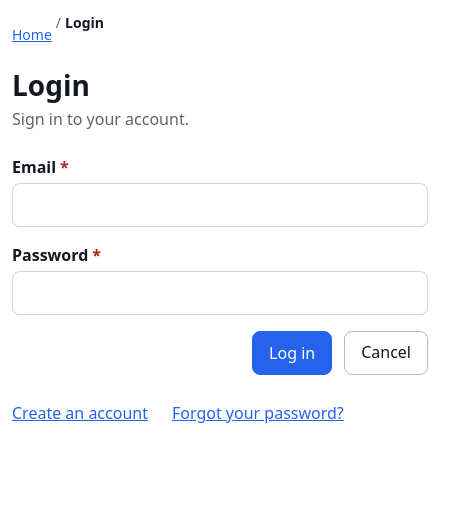
LoginForm (ACC-10) › 401 says the email or password is wrong, in an alert, keeps the email and clears the password
Expected: the button "Log in" is shown, [252,331,332,375]
In the field labelled "Email*": (220, 205) [12,183,428,227], type "ziad@example.com"
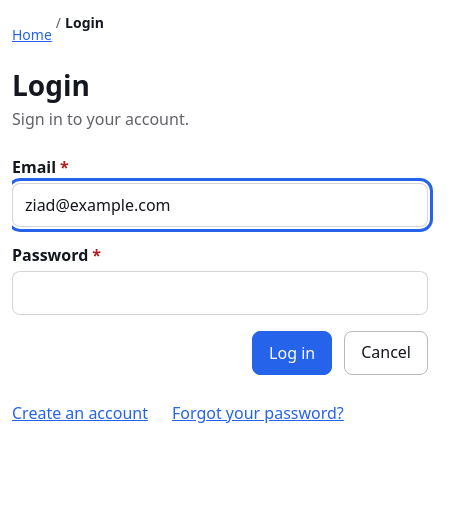
In the password field labelled "Password*": (220, 293) [12,271,428,315], type "Passw0rdOK"
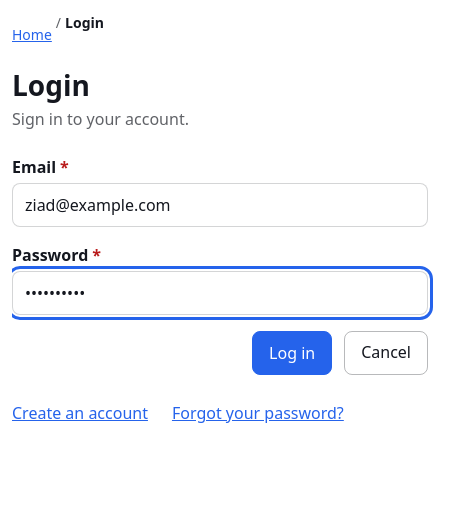
Click the button "Log in": (292, 353) [252,331,332,375]
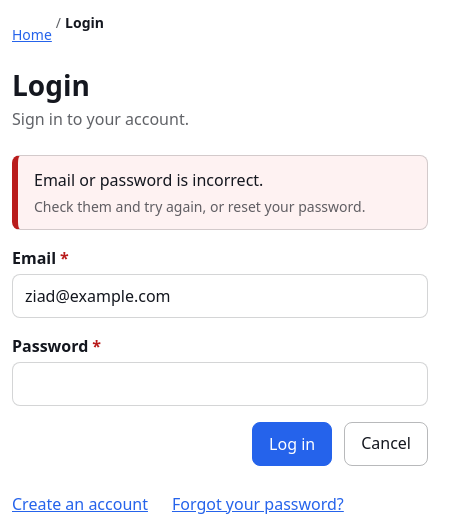
Now the message shows "Email or password is incorrect.", box [34,169,263,191]
Now the password field labelled "Password*" is empty, box [12,362,428,406]
